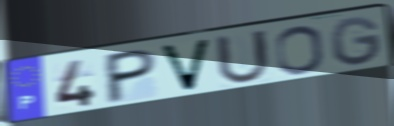4: (54, 57, 98, 109)
G: (329, 15, 384, 68)
O: (273, 24, 327, 76)
P: (104, 47, 159, 107)
U: (213, 28, 273, 86)
V: (157, 37, 214, 94)
